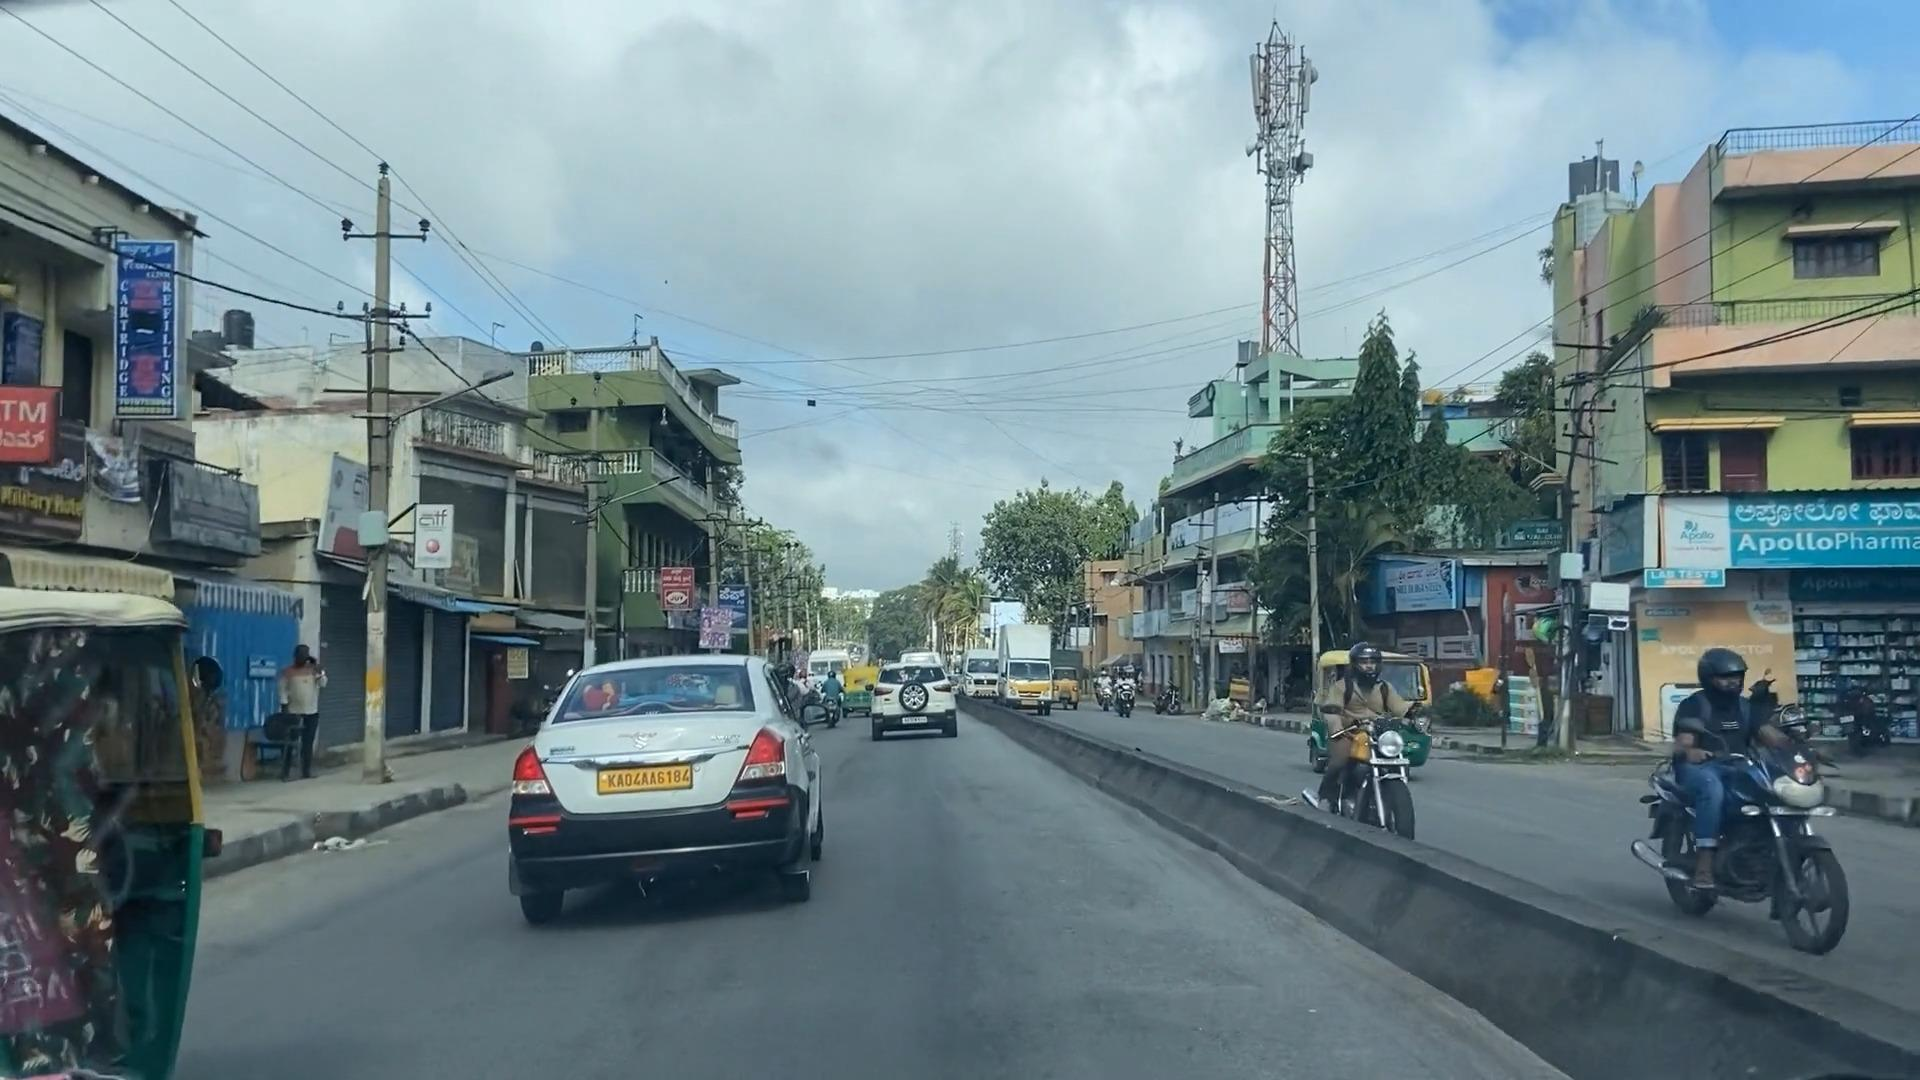LMV: (518, 658, 829, 932), (873, 662, 956, 740)
